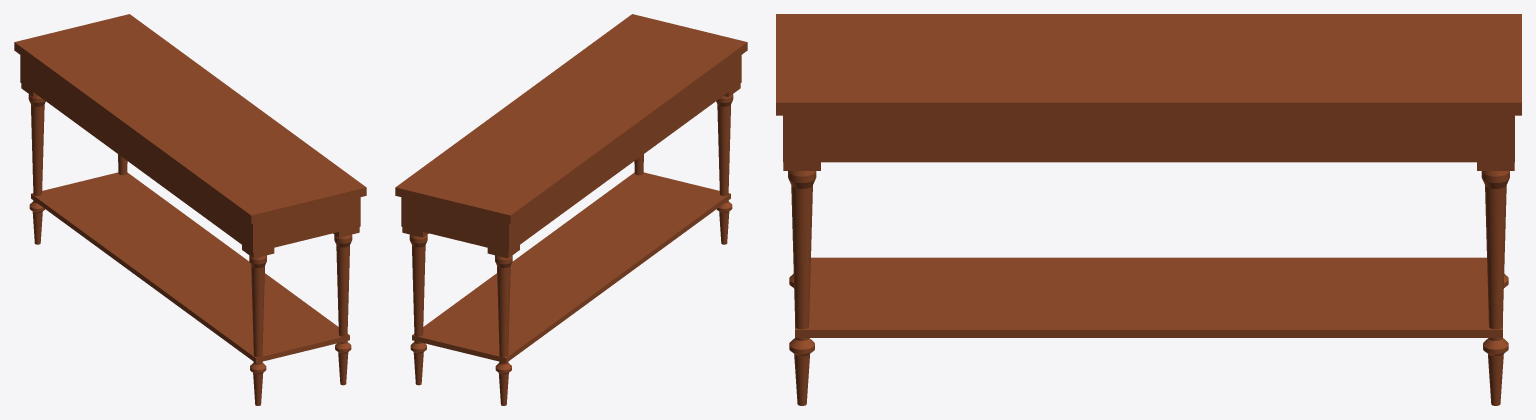
3 views of the same model, side by side, from view 1: azimuth 30°, elevation 25°; view 2: azimuth 150°, elevation 25°; view 3: azimuth 270°, elevation 25° (orthographic). The views are drawn at different scales.
Visible parts, largest first — view 1: console_table; view 2: console_table; view 3: console_table.
Boxes of the visible parts, x1=… form: console_table: x1=14, y1=14, x2=366, y2=405; console_table: x1=395, y1=14, x2=747, y2=405; console_table: x1=776, y1=14, x2=1521, y2=405.
Size of the model in its own units: 1.04 by 1.71 by 3.69.
